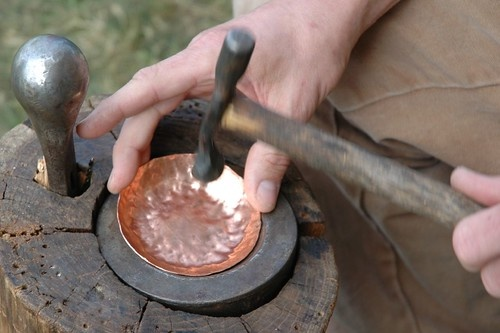hammer: (197, 26, 500, 241)
